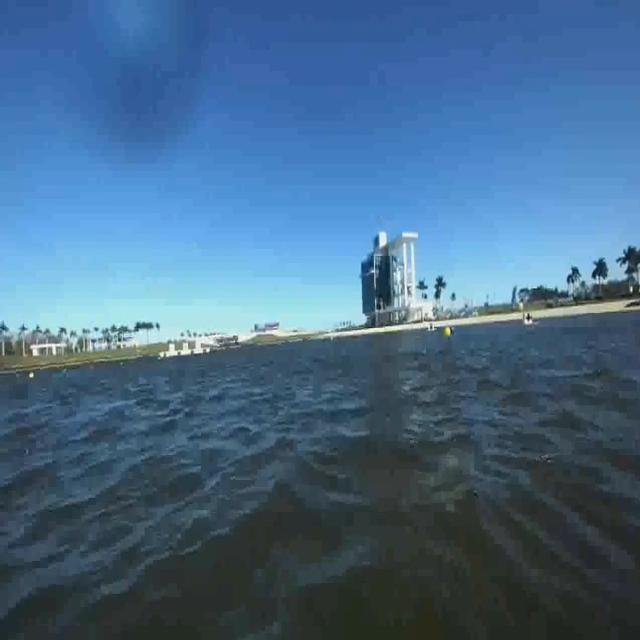yellow-buoy: (444, 324, 454, 338)
